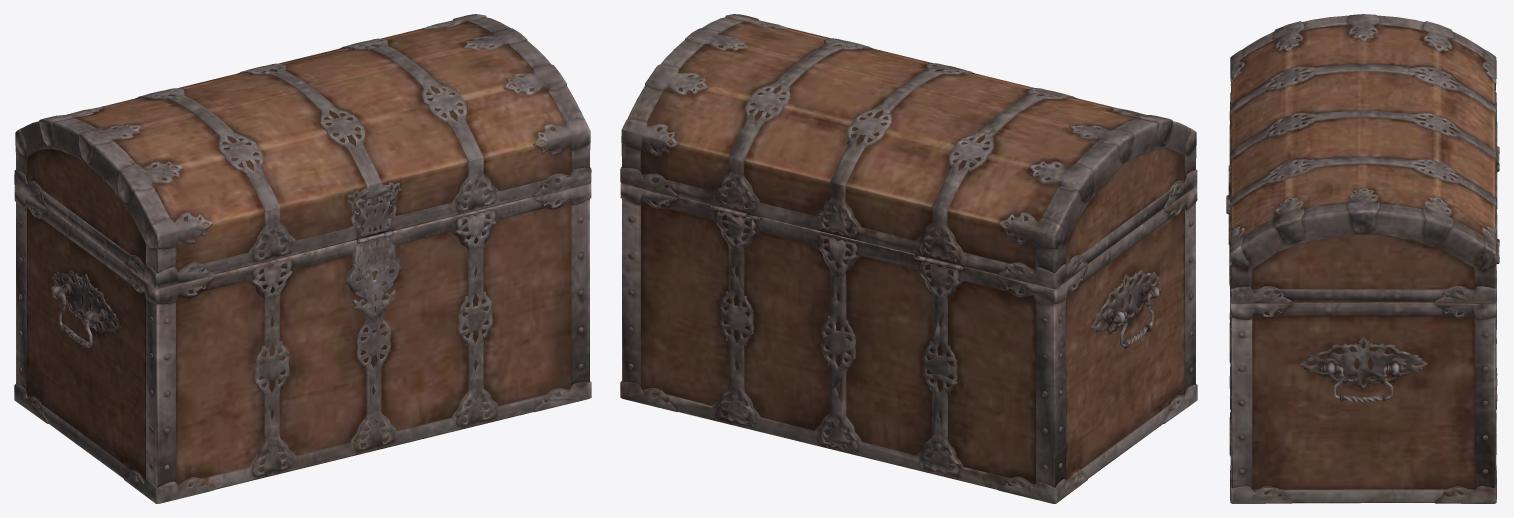
The model's file is treasure_chest.glb.
3 renders of one model, left to right at view 1: azimuth 30°, elevation 25°; view 2: azimuth 150°, elevation 25°; view 3: azimuth 270°, elevation 25°, orthographic. The views are drawn at different scales.
Parts seen in each view (by area): view 1: treasure_chest_bottom, treasure_chest_lid, treasure_chest_lock, treasure_chest_handle_left; view 2: treasure_chest_bottom, treasure_chest_lid; view 3: treasure_chest_lid, treasure_chest_bottom, treasure_chest_handle_right.
Boxes of the visible parts, x1=… form: treasure_chest_bottom: x1=14, y1=183, x2=591, y2=503; treasure_chest_lid: x1=14, y1=14, x2=591, y2=288; treasure_chest_lock: x1=349, y1=233, x2=399, y2=322; treasure_chest_handle_left: x1=50, y1=285, x2=100, y2=348; treasure_chest_bottom: x1=620, y1=183, x2=1197, y2=503; treasure_chest_lid: x1=620, y1=14, x2=1197, y2=288; treasure_chest_lid: x1=1226, y1=14, x2=1499, y2=303; treasure_chest_bottom: x1=1229, y1=152, x2=1499, y2=503; treasure_chest_handle_right: x1=1320, y1=365, x2=1406, y2=402.
Size of the model in its own units: 0.959 by 0.6188 by 0.5226.
Materials: 1 (1 with a texture image).
